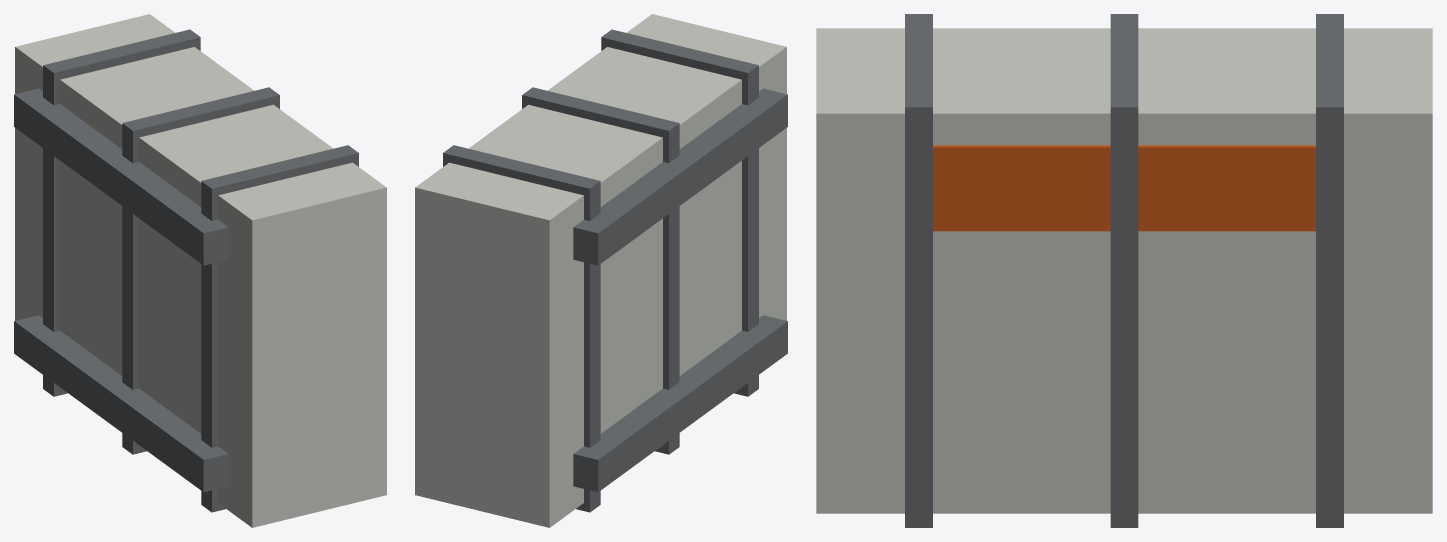
The model's file is u33_field_ctl.obj.
3 views of the same model, side by side, from view 1: azimuth 30°, elevation 25°; view 2: azimuth 150°, elevation 25°; view 3: azimuth 270°, elevation 25° (orthographic). The views are drawn at different scales.
Parts seen in each view (by area): view 1: u33_field_ctl; view 2: u33_field_ctl; view 3: u33_field_ctl.
Boxes of the visible parts, x1=… form: u33_field_ctl: x1=14, y1=14, x2=386, y2=527; u33_field_ctl: x1=415, y1=14, x2=787, y2=527; u33_field_ctl: x1=816, y1=14, x2=1432, y2=527.
Bounding box in the file's own units: 0.535 × 1 × 1.33.
